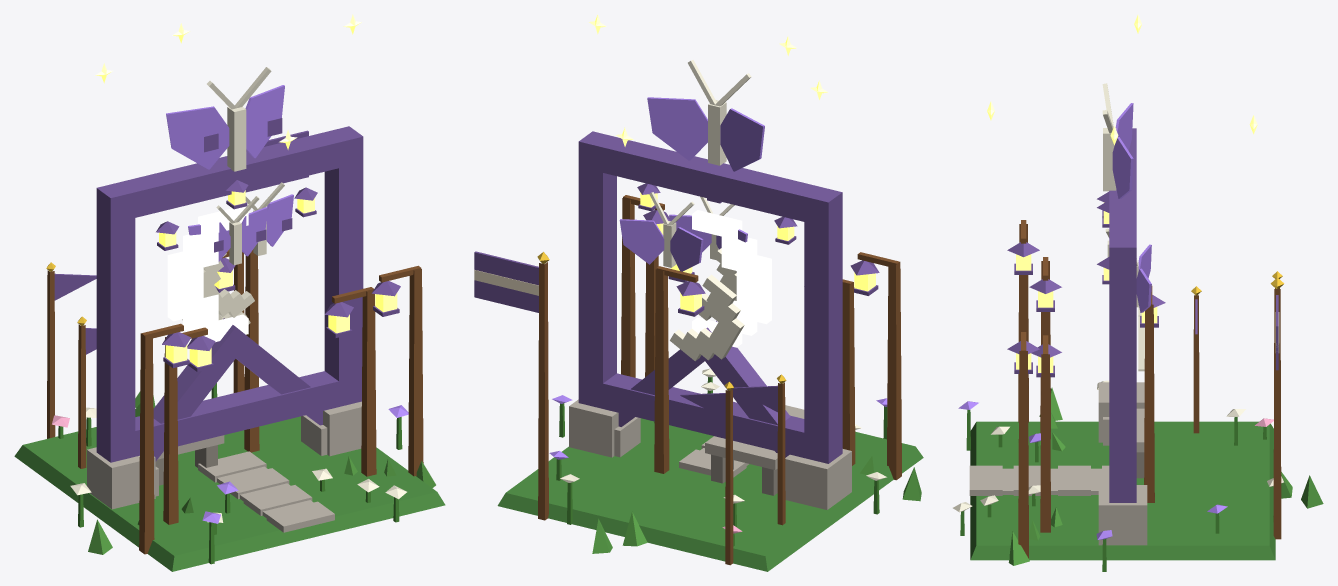
Rendered from moth-moon-garden-blocky.glb.
The picture shows the model from 3 angles, left to right: view 1: azimuth 30°, elevation 25°; view 2: azimuth 150°, elevation 25°; view 3: azimuth 270°, elevation 25°; orthographic projection. The views are drawn at different scales.
Parts seen in each view (by area): view 1: lv3, lv2, lv1; view 2: lv3, lv2, lv1; view 3: lv3, lv2, lv1.
Part boxes in pixels (left/top/right/bottom): lv3: left=14, top=14, right=445, bottom=571; lv2: left=77, top=196, right=396, bottom=534; lv1: left=155, top=182, right=357, bottom=513; lv3: left=474, top=14, right=923, bottom=571; lv2: left=549, top=196, right=873, bottom=546; lv1: left=619, top=192, right=777, bottom=495; lv3: left=953, top=14, right=1323, bottom=571; lv2: left=980, top=228, right=1292, bottom=540; lv1: left=1028, top=244, right=1165, bottom=527.
Bounding box in the file's own units: 1.74 × 2.15 × 1.68.
